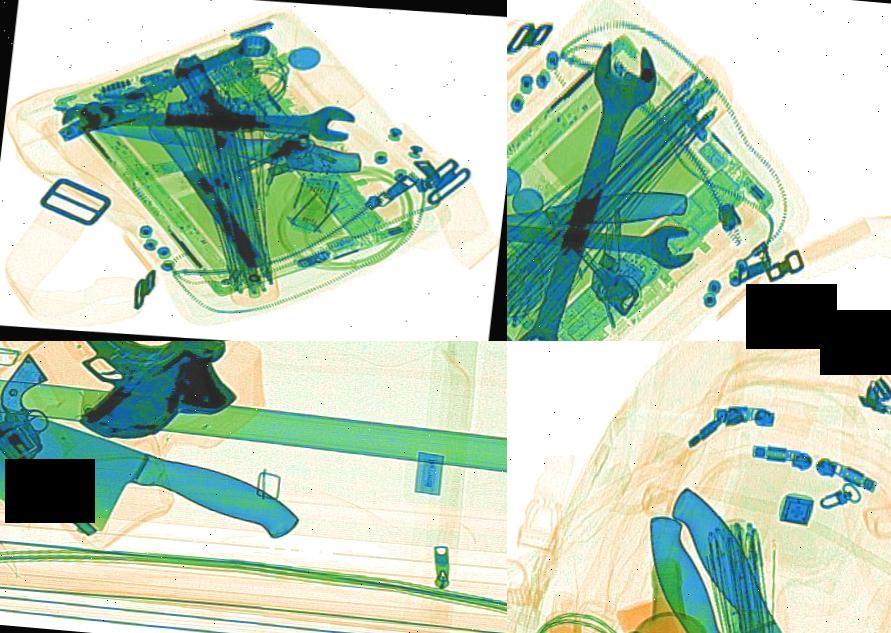Gun: (0, 344, 185, 546), (0, 341, 238, 452), (159, 50, 264, 131)
Knife: (0, 380, 319, 582), (589, 468, 891, 633), (603, 470, 891, 633), (109, 92, 286, 267), (507, 160, 698, 264), (84, 109, 367, 177), (0, 341, 55, 519)
Wrench: (507, 33, 663, 341), (50, 15, 279, 147), (80, 89, 356, 143), (507, 200, 694, 273), (507, 224, 588, 341)
